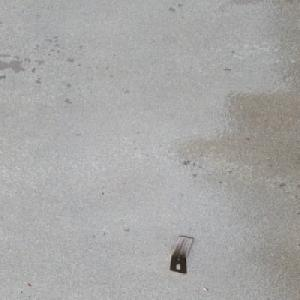MetalPart: (168, 235, 195, 274)
